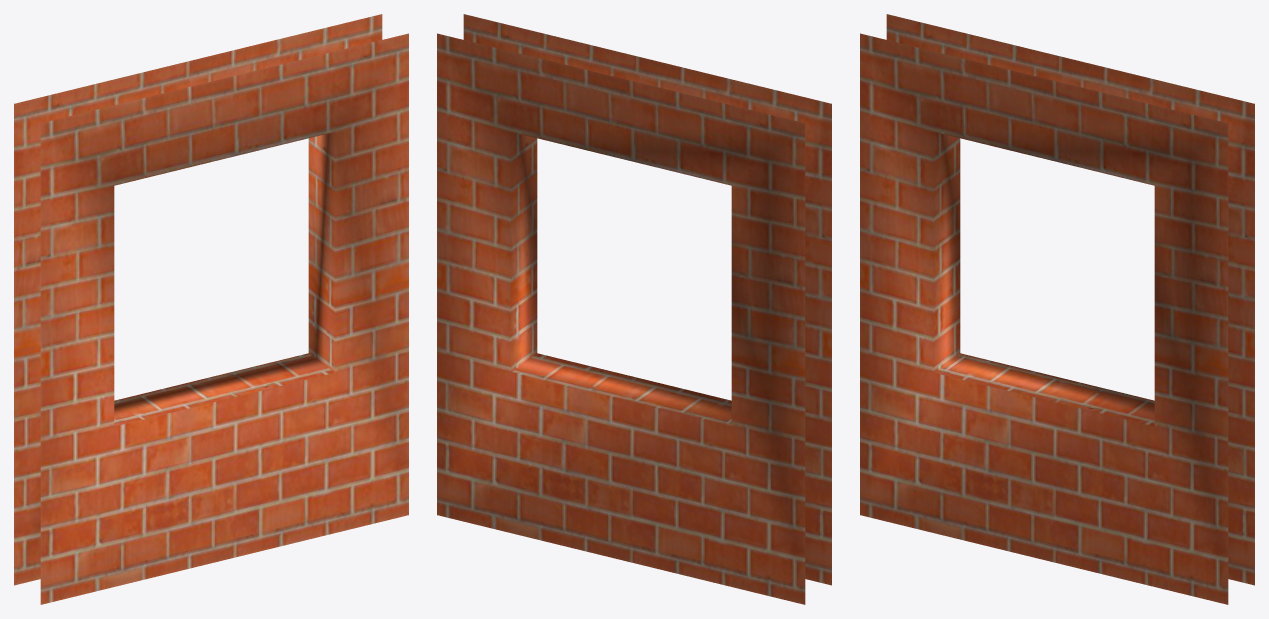
File: wall_window.fbx
3 views of the same model, side by side, from view 1: azimuth 30°, elevation 25°; view 2: azimuth 150°, elevation 25°; view 3: azimuth 330°, elevation 25° (orthographic).
Visible parts, largest first — view 1: Cube_001; view 2: Cube_001; view 3: Cube_001.
Part boxes in pixels (x1,y1,x2,y2): Cube_001: (14, 14, 408, 604); Cube_001: (437, 14, 831, 604); Cube_001: (860, 14, 1254, 604).
Size of the model in its own units: 1.6 by 2 by 0.2.
